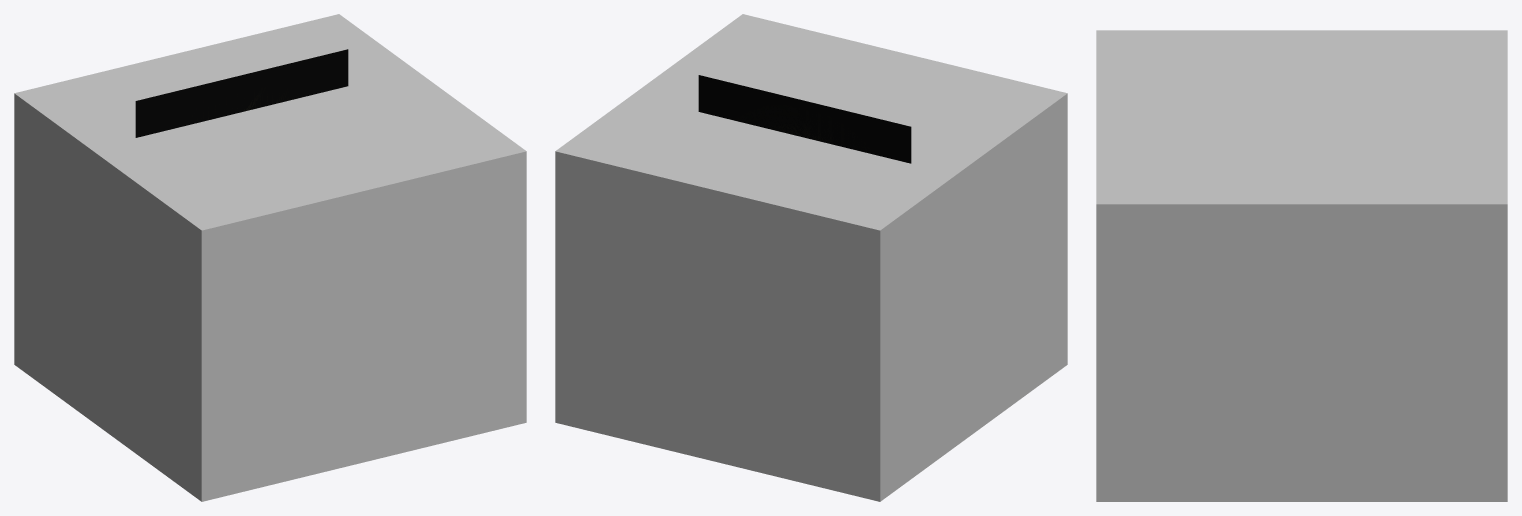
The model's file is chess_attempt6.fbx.
3 renders of one model, left to right at view 1: azimuth 30°, elevation 25°; view 2: azimuth 150°, elevation 25°; view 3: azimuth 270°, elevation 25°, orthographic. The views are drawn at different scales.
Parts seen in each view (by area): view 1: object0503_Editable Poly, object0384_Editable Poly, object0393_Plane; view 2: object0503_Editable Poly, object0384_Editable Poly, object0393_Plane; view 3: object0503_Editable Poly.
Boxes of the visible parts, x1,y1,x2,y2 form: object0503_Editable Poly: (14, 14, 526, 501); object0384_Editable Poly: (135, 49, 348, 137); object0393_Plane: (174, 50, 348, 125); object0503_Editable Poly: (555, 14, 1067, 501); object0384_Editable Poly: (698, 75, 911, 163); object0393_Plane: (699, 76, 903, 160); object0503_Editable Poly: (1096, 30, 1507, 501).
Size of the model in its own units: 55009 by 50320 by 55009.
